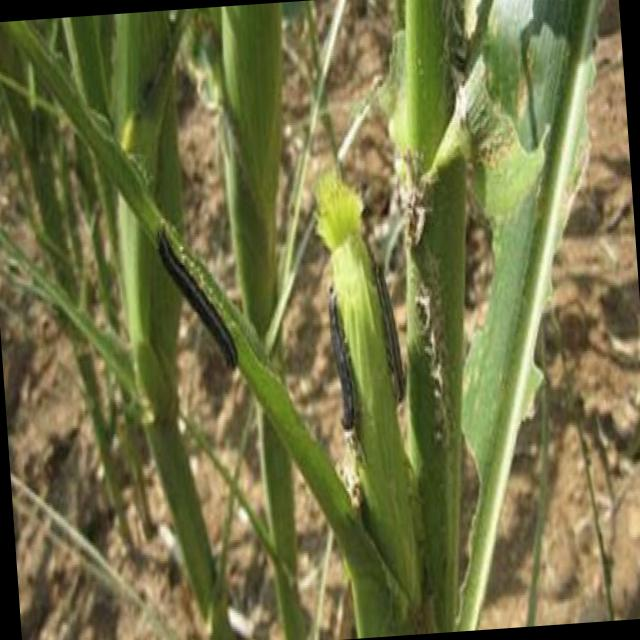pest: (155, 220, 240, 376), (374, 256, 413, 399), (325, 288, 360, 441)
